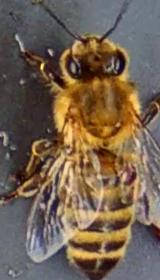varroa_mite: (109, 153, 140, 186)
